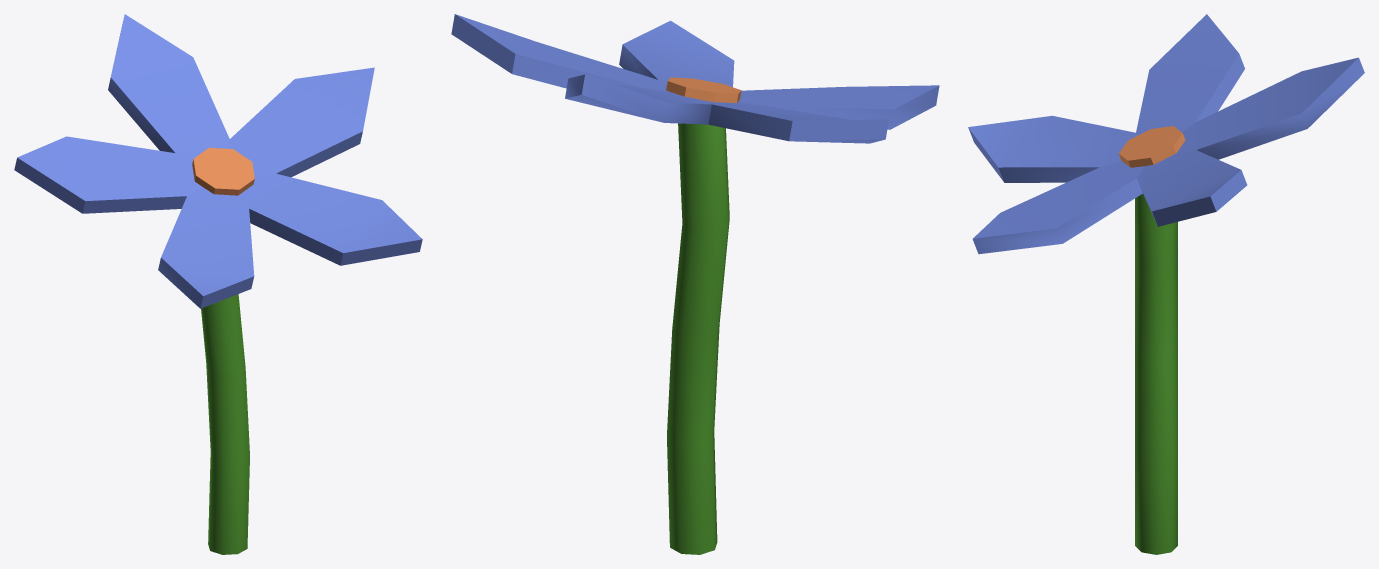
Rendered from Flower_Blue_1.fbx.
3 views of the same model, side by side, from view 1: azimuth 30°, elevation 25°; view 2: azimuth 150°, elevation 25°; view 3: azimuth 270°, elevation 25° (orthographic). The views are drawn at different scales.
Visible parts, largest first — view 1: Cube.079, Cylinder.607, Cylinder.608; view 2: Cube.079, Cylinder.607, Cylinder.608; view 3: Cube.079, Cylinder.607, Cylinder.608.
Part boxes in pixels (box(x1,y1,x2,y2)): Cube.079: box(14, 14, 422, 308); Cylinder.607: box(201, 294, 249, 554); Cylinder.608: box(192, 147, 254, 195); Cube.079: box(451, 14, 939, 143); Cylinder.607: box(667, 123, 729, 554); Cylinder.608: box(666, 77, 741, 103); Cube.079: box(968, 14, 1364, 254); Cylinder.607: box(1135, 193, 1177, 554); Cylinder.608: box(1118, 126, 1185, 167).
Bounding box in the file's own units: 71.56 × 88.17 × 65.36.
